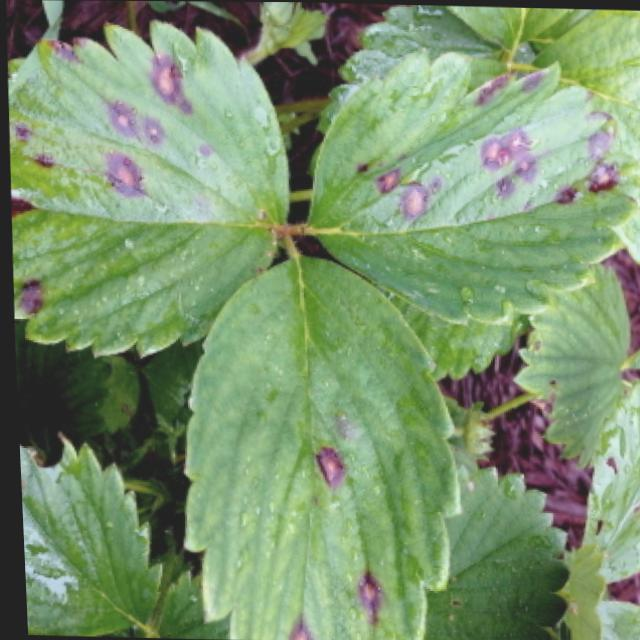Leaf Spot: (175, 253, 457, 640), (7, 18, 289, 362), (303, 46, 640, 326), (15, 432, 159, 636), (506, 262, 631, 467), (577, 375, 640, 583)
